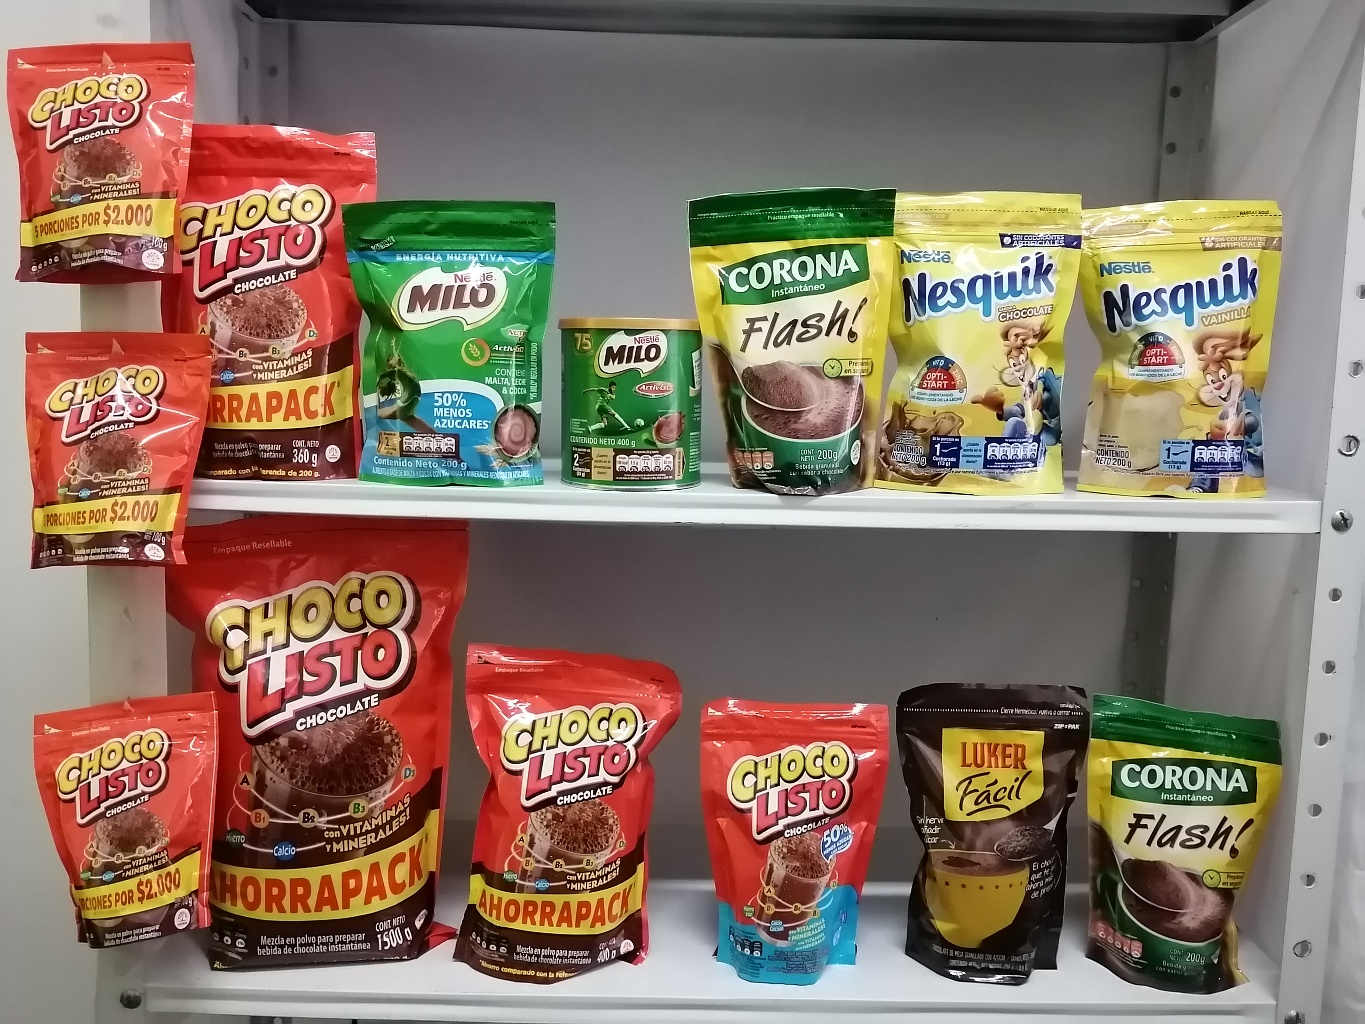COL0170103DYP1,500: (150, 510, 506, 978)
COL0170103DYP10000: (6, 38, 204, 296)
COL0170103DYP36000: (150, 117, 394, 488)
COL0170103DYP40000: (431, 626, 692, 983)
COL0170104DYP20000: (688, 689, 897, 990)
COL0170203LAT40000: (551, 299, 713, 503)
COL0170205DYP20000: (331, 196, 574, 488)
COL0170303DYP20000: (871, 162, 1092, 501)
COL0170306DYP20000: (1069, 188, 1303, 510)
